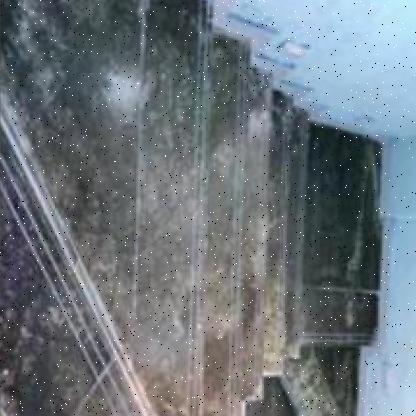stair_down: (116, 0, 300, 306)
